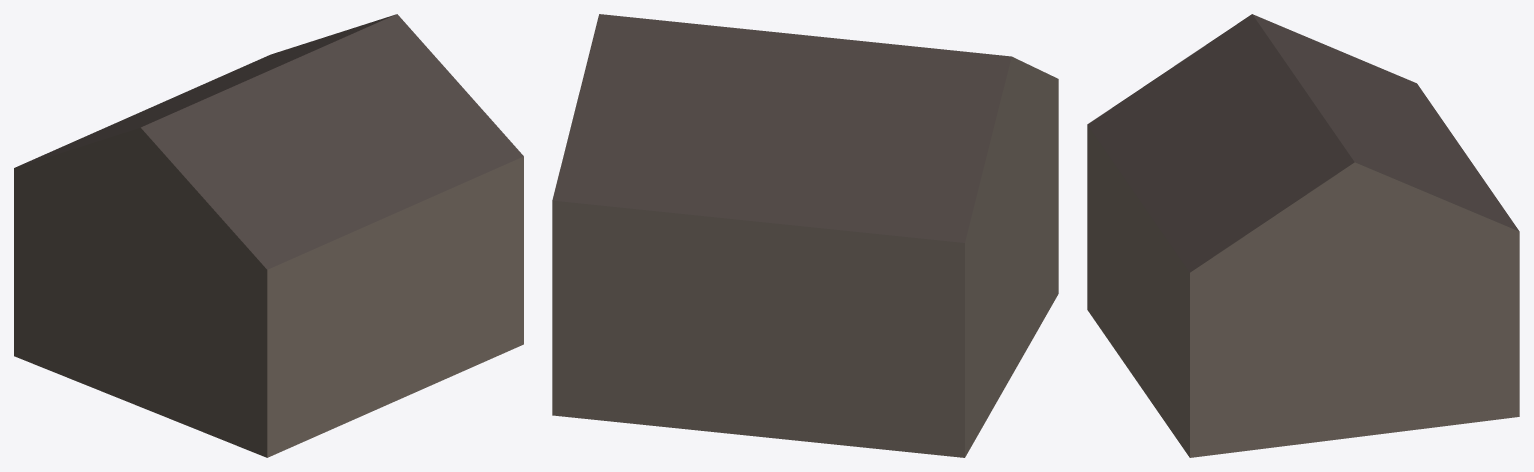
3 views of the same model, side by side, from view 1: azimuth 30°, elevation 25°; view 2: azimuth 150°, elevation 25°; view 3: azimuth 270°, elevation 25° (orthographic). The views are drawn at different scales.
Parts seen in each view (by area): view 1: HP-w1198842489; view 2: HP-w1198842489; view 3: HP-w1198842489.
Part boxes in pixels (x1,y1,x2,y2): HP-w1198842489: (14,14,523,457); HP-w1198842489: (552,14,1058,457); HP-w1198842489: (1087,14,1519,457).
Bounding box in the file's own units: 13.17 × 8.92 × 12.71.
